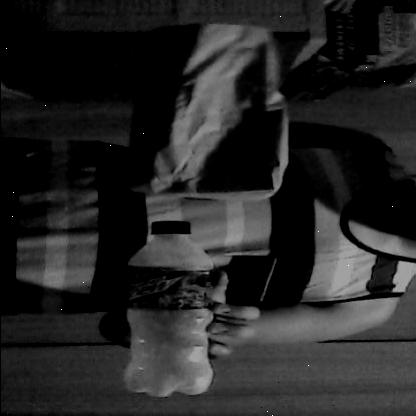Plastic Bottle: (108, 215, 238, 405)
